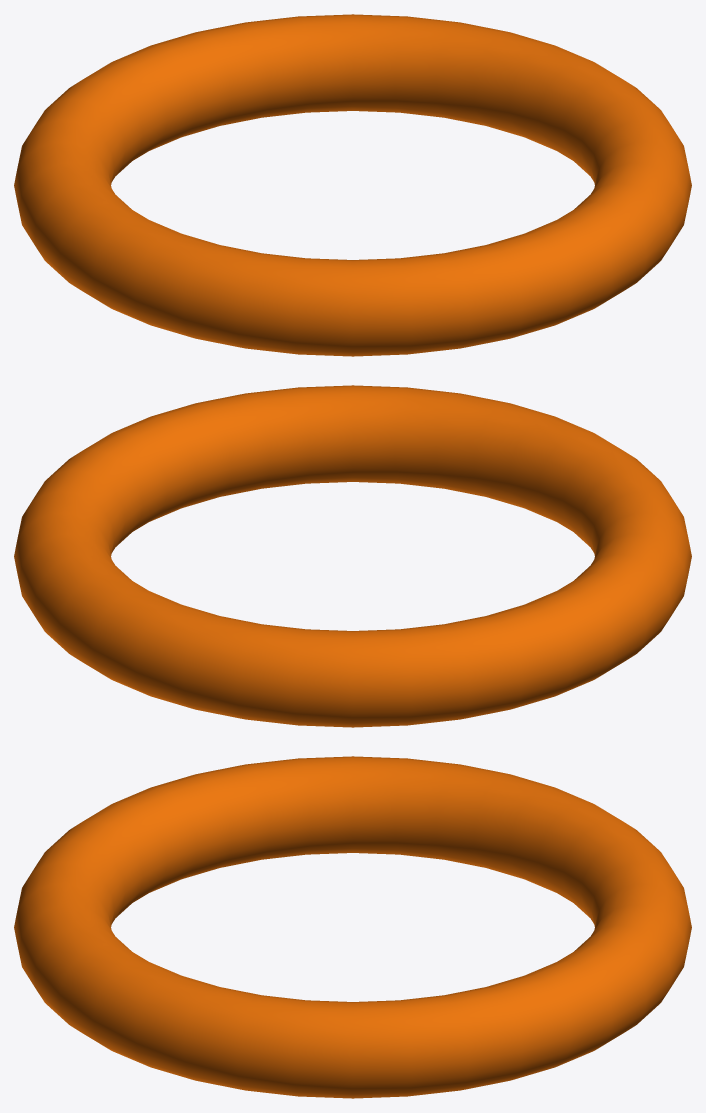
File: note.obj
3 views of the same model, one above another, from view 1: azimuth 30°, elevation 25°; view 2: azimuth 150°, elevation 25°; view 3: azimuth 270°, elevation 25° (orthographic).
Parts seen in each view (by area): view 1: Ring; view 2: Ring; view 3: Ring.
Part boxes in pixels (left/top/right/bottom): Ring: left=14, top=14, right=691, bottom=356; Ring: left=14, top=385, right=691, bottom=727; Ring: left=14, top=756, right=691, bottom=1098.
Size of the model in its own units: 0.3556 by 0.05 by 0.3556.
